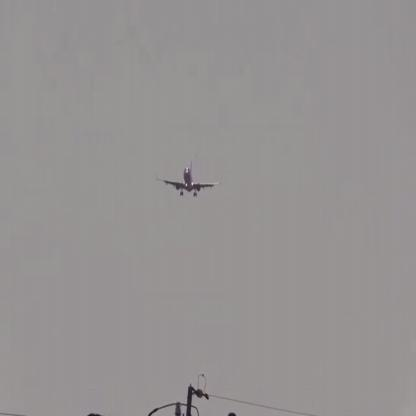CIV_Plane: (156, 162, 222, 197)
